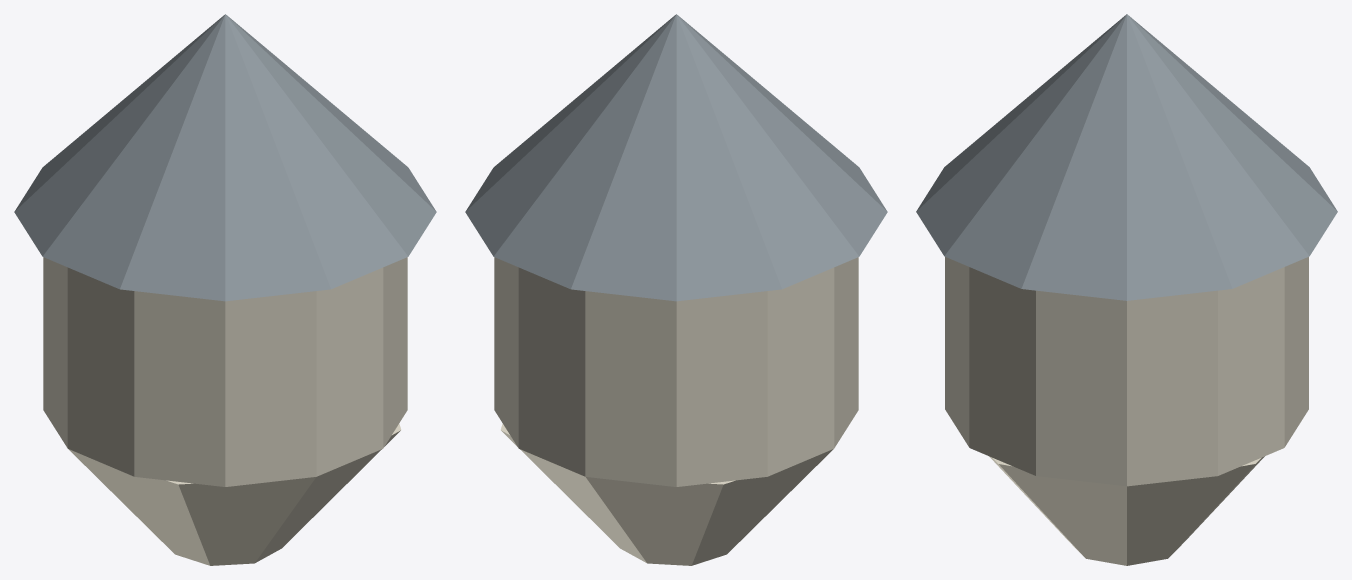
File: turret-corbel.glb
The picture shows the model from 3 angles, left to right: view 1: azimuth 30°, elevation 25°; view 2: azimuth 150°, elevation 25°; view 3: azimuth 270°, elevation 25°; orthographic projection.
Parts seen in each view (by area): view 1: turret-corbel; view 2: turret-corbel; view 3: turret-corbel.
Boxes of the visible parts, box(x1,y1,x2,y2) form: turret-corbel: box(14, 14, 436, 565); turret-corbel: box(465, 14, 887, 565); turret-corbel: box(916, 14, 1337, 565).
Size of the model in its own units: 2.9 by 4 by 2.9.
